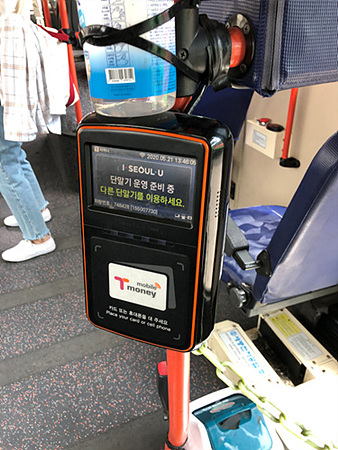terminal: (83, 106, 215, 347)
